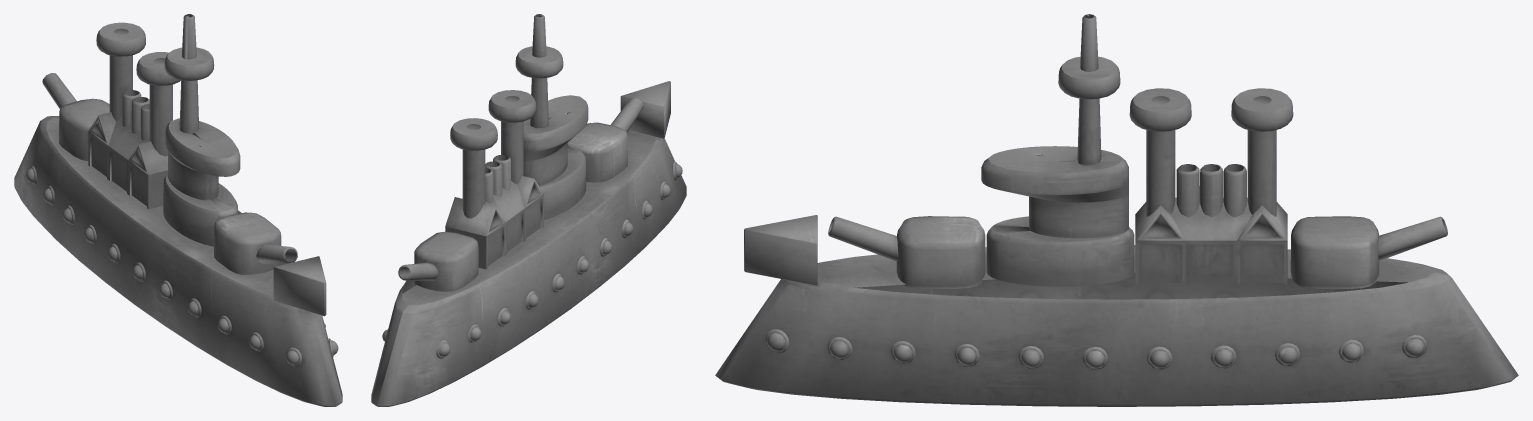
The model's file is bateau.glb.
3 renders of one model, left to right at view 1: azimuth 30°, elevation 25°; view 2: azimuth 150°, elevation 25°; view 3: azimuth 270°, elevation 25°, orthographic. The views are drawn at different scales.
Visible parts, largest first — view 1: Boat; view 2: Boat; view 3: Boat.
Part boxes in pixels (left/top/right/bottom): Boat: left=14, top=14, right=342, bottom=406; Boat: left=371, top=14, right=686, bottom=406; Boat: left=715, top=14, right=1518, bottom=406.
Size of the model in its own units: 0.1944 by 0.4986 by 1.
Materials: 1 (1 with a texture image).
